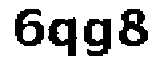6: (7, 4, 45, 50)
8: (117, 6, 152, 50)
g: (82, 15, 114, 60)
q: (47, 15, 82, 60)
